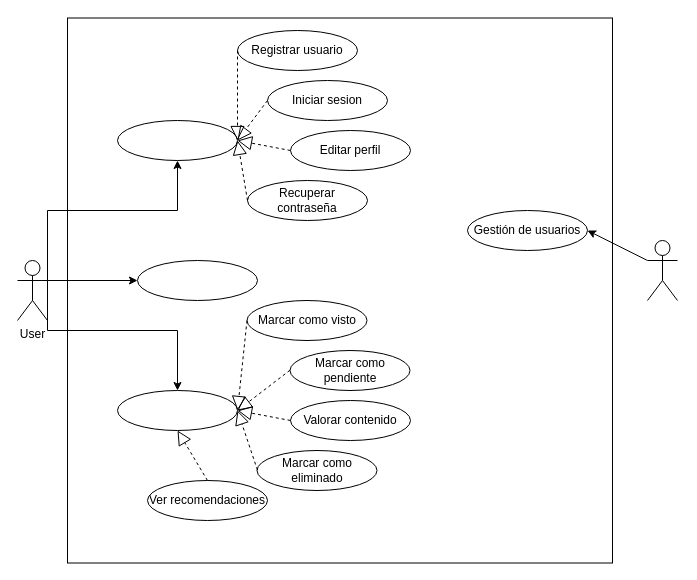
Image size: 697x580. Some labels were removed from this diagram. Each missing label, with the centre of its shape:
Admin: point 662,270
Buscar peliculas/series: point 197,280
Gestión del contenido: point 177,410
Gestión del propio usuario: point 177,140
